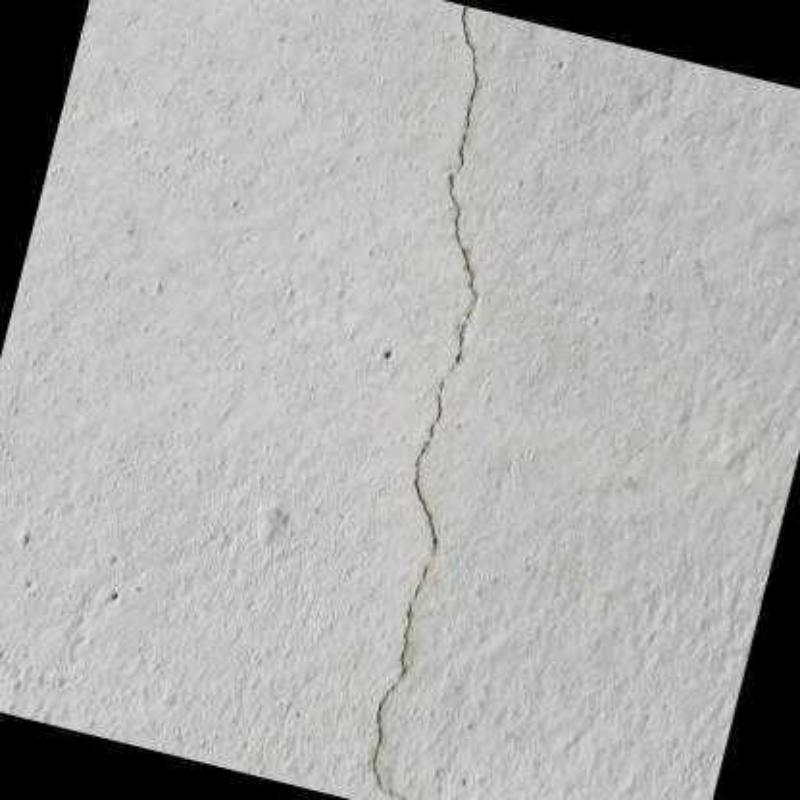pothole: (372, 170, 480, 800), (457, 3, 478, 171)
